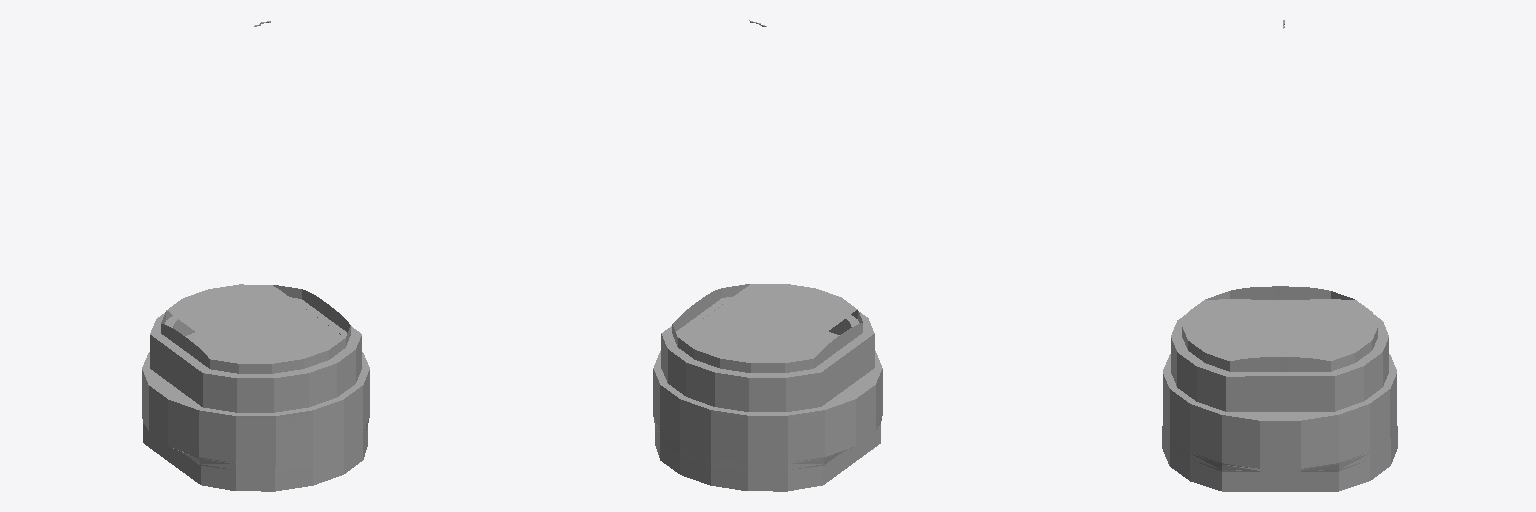
URDF robot description (spot_arm):
<?xml version="1.0" ?>
<robot name="spot_arm" xmlns:xacro="http://www.ros.org/wiki/xacro">

<material name="silver">
  <color rgba="0.700 0.700 0.700 1.000"/>
</material>
<link name="body">
    <visual>
        <origin xyz="0 0 0" rpy="0 0 0" />
        <geometry>
            <mesh filename="package://spot_arm/meshes/body.dae" />
        </geometry>
    </visual>
    <collision>
        <geometry>
            <mesh filename="package://spot_arm/meshes/body_collision.dae" />
        </geometry>
    </collision>
</link>

<joint name="base_arm_joint" type="fixed">
  <origin xyz="0.29 0 0.08" rpy="0 0 0" />
  <parent link="body" />
  <child link="base_arm_link" />
</joint>

<link name="base_arm_link">
  <inertial>
    <origin rpy="0 0 0" xyz="1.2371844231029972e-17 0.0 0.0325"/>
    <mass value="5.770791545379091"/>
    <inertia ixx="0.007226" ixy="-0.0" ixz="0.0" iyy="0.007226" iyz="0.0" izz="0.010387"/>
  </inertial>
  <visual>
    <origin rpy="0 0 0" xyz="0 0 0"/>
    <geometry>
      <mesh filename="package://spot_arm/meshes/arm/base_link.dae" scale="0.001 0.001 0.001"/>
    </geometry>
    <material name="silver"/>
  </visual>
  <collision>
    <origin rpy="0 0 0" xyz="0 0 0"/>
    <geometry>
      <mesh filename="package://spot_arm/meshes/arm/base_link.dae" scale="0.001 0.001 0.001"/>
    </geometry>
  </collision>
</link>

<joint name="arm_joint1" type="revolute">
  <origin rpy="0 0 1.5707963267948966" xyz="0.0 0.0 0.065"/>
  <parent link="base_arm_link"/>
  <child link="link1"/>
  <axis xyz="0.0 0.0 1.0"/>
  <limit effort="100" lower="-3.141593" upper="2.617994" velocity="100"/>
</joint>

<link name="link1">
  <inertial>
    <origin rpy="0 0 0" xyz="0.05071972800114364 -1.0308563411658574e-17 0.04676911608650795"/>
    <mass value="6.925827706354272"/>
    <inertia ixx="0.01241" ixy="-0.0" ixz="-0.001047" iyy="0.010387" iyz="0.0" izz="0.012306"/>
  </inertial>
  <visual>
    <origin rpy="0 0 0" xyz="-0.0 -0.0 -0.065"/>
    <geometry>
      <mesh filename="package://spot_arm/meshes/arm/link1.dae" scale="0.001 0.001 0.001"/>
    </geometry>
    <material name="silver"/>
  </visual>
  <collision>
    <origin rpy="0 0 0" xyz="-0.0 -0.0 -0.065"/>
    <geometry>
      <mesh filename="package://spot_arm/meshes/arm/link1.dae" scale="0.001 0.001 0.001"/>
    </geometry>
  </collision>
</link>


<joint name="arm_joint2" type="revolute">
  <origin rpy="-3.141592653589793 0 0" xyz="0.015 0.0 0.05"/>
  <parent link="link1"/>
  <child link="link2"/>
  <axis xyz="1.0 0.0 0.0"/>
  <limit effort="100" lower="-3.665191" upper="0.0" velocity="100"/>
</joint>


<link name="link2">
  <inertial>
    <origin rpy="0 0 0" xyz="-0.0163095589512068 0.17540914221218962 0.0"/>
    <mass value="12.658281999999998"/>
    <inertia ixx="0.12979" ixy="0.002625" ixz="0.0" iyy="0.01004" iyz="0.0" izz="0.129493"/>
  </inertial>
  <visual>
    <origin rpy="0 0 0" xyz="-0.015 -0.0 -0.115"/>
    <geometry>
      <mesh filename="package://spot_arm/meshes/arm/link2.dae" scale="0.001 0.001 0.001"/>
    </geometry>
    <material name="silver"/>
  </visual>
  <collision>
    <origin rpy="0 0 0" xyz="-0.015 -0.0 -0.115"/>
    <geometry>
      <mesh filename="package://spot_arm/meshes/arm/link2.dae" scale="0.001 0.001 0.001"/>
    </geometry>
  </collision>
</link>



<joint name="arm_joint3" type="revolute">
  <origin rpy="0 0 0" xyz="0.002 0.3125 0.0"/>
  <parent link="link2"/>
  <child link="link3"/>
  <axis xyz="1.0 0.0 0.0"/>
  <limit effort="100" lower="0.0" upper="2.96706" velocity="100"/>
</joint>


<link name="link3">
  <inertial>
    <origin rpy="0 0 0" xyz="-0.015621881612358529 0.06665620790957599 -0.058074231003688394"/>
    <mass value="7.368455487741179"/>
    <inertia ixx="0.018073" ixy="0.000915" ixz="-0.00101" iyy="0.011789" iyz="0.003728" izz="0.01667"/>
  </inertial>
  <visual>
    <origin rpy="0 0 0" xyz="-0.017 -0.3125 -0.115"/>
    <geometry>
      <mesh filename="package://spot_arm/meshes/arm/link3.dae" scale="0.001 0.001 0.001"/>
    </geometry>
    <material name="silver"/>
  </visual>
  <collision>
    <origin rpy="0 0 0" xyz="-0.017 -0.3125 -0.115"/>
    <geometry>
      <mesh filename="package://spot_arm/meshes/arm/link3.dae" scale="0.001 0.001 0.001"/>
    </geometry>
  </collision>
</link>


<joint name="arm_joint4" type="revolute">
  <origin rpy="0 0 0" xyz="-0.018 0.138 -0.0675"/>
  <parent link="link3"/>
  <child link="link4"/>
  <axis xyz="0.0 1.0 0.0"/>
  <limit effort="100" lower="-2.879793" upper="2.879793" velocity="100"/>
</joint>


<link name="link4">
  <inertial>
    <origin rpy="0 0 0" xyz="-0.00911464892336129 0.12606054498393937 5.551115123125783e-17"/>
    <mass value="10.95245995004642"/>
    <inertia ixx="0.066789" ixy="0.011971" ixz="-0.0" iyy="0.014993" iyz="0.0" izz="0.071949"/>
  </inertial>
  <visual>
    <origin rpy="0 0 0" xyz="0.001 -0.4505 -0.0475"/>
    <geometry>
      <mesh filename="package://spot_arm/meshes/arm/link4.dae" scale="0.001 0.001 0.001"/>
    </geometry>
    <material name="silver"/>
  </visual>
  <collision>
    <origin rpy="0 0 0" xyz="0.001 -0.4505 -0.0475"/>
    <geometry>
      <mesh filename="package://spot_arm/meshes/arm/link4.dae" scale="0.001 0.001 0.001"/>
    </geometry>
  </collision>
</link>


<joint name="arm_joint5" type="revolute">
  <origin rpy="0 0 0" xyz="-0.0475 0.24809 0.0"/>
  <parent link="link4"/>
  <child link="wrist"/>
  <axis xyz="1.0 0.0 0.0"/>
  <limit effort="100" lower="-1.570796" upper="1.570796" velocity="100"/>
</joint>



<link name="wrist">
  <inertial>
    <origin rpy="0 0 0" xyz="0.03954999709763633 0.03472006124891969 4.209155544249166e-08"/>
    <mass value="3.2278801394086396"/>
    <inertia ixx="0.00339" ixy="-2.1e-05" ixz="0.0" iyy="0.002242" iyz="-0.0" izz="0.003439"/>
  </inertial>
  <visual>
    <origin rpy="0 0 0" xyz="0.0485 -0.69859 -0.0475"/>
    <geometry>
      <mesh filename="package://spot_arm/meshes/arm/wrist.dae" scale="0.001 0.001 0.001"/>
    </geometry>
    <material name="silver"/>
  </visual>
  <collision>
    <origin rpy="0 0 0" xyz="0.0485 -0.69859 -0.0475"/>
    <geometry>
      <mesh filename="package://spot_arm/meshes/arm/wrist.dae" scale="0.001 0.001 0.001"/>
    </geometry>
  </collision>
</link>

<joint name="arm_joint6" type="revolute">
  <origin rpy="0 0 0" xyz="0.04 0.081 0.0"/>
  <parent link="wrist"/>
  <child link="gripper"/>
  <axis xyz="-0.0 1.0 0.0"/>
  <limit effort="100" lower="-2.96706" upper="2.96706" velocity="100"/>
</joint>


<link name="gripper">
  <inertial>
    <origin rpy="0 0 0" xyz="-8.366123908053191e-08 0.07051371901138614 0.017123167388316526"/>
    <mass value="5.9780007036604434"/>
    <inertia ixx="0.01723" ixy="0.0" ixz="0.0" iyy="0.00734" iyz="-0.003871" izz="0.0153"/>
  </inertial>
  <visual>
    <origin rpy="0 0 0" xyz="0.0085 -0.77959 -0.0475"/>
    <geometry>
      <mesh filename="package://spot_arm/meshes/arm/gripper.dae" scale="0.001 0.001 0.001"/>
    </geometry>
    <material name="silver"/>
  </visual>
  <collision>
    <origin rpy="0 0 0" xyz="0.0085 -0.77959 -0.0475"/>
    <geometry>
      <mesh filename="package://spot_arm/meshes/arm/gripper.dae" scale="0.001 0.001 0.001"/>
    </geometry>
  </collision>
</link>

<joint name="arm_gripper" type="revolute">
  <origin rpy="0 0 0" xyz="-0.86859 0.043915 -0.029"/>
  <parent link="gripper"/>
  <child link="finger"/>
  <axis xyz="1.0 -0.0 0.0"/>
  <limit effort="100" lower="-1.396263" upper="0.349066" velocity="100"/>
</joint>

<link name="finger">
  <inertial>
    <origin rpy="0 0 0" xyz="0.8635899028063472 0.09862056591557622 0.00850232975194119"/>
    <mass value="1.71236178687828"/>
    <inertia ixx="0.002129" ixy="0.0" ixz="-0.0" iyy="0.001681" iyz="0.000162" izz="0.003403"/>
  </inertial>
  <visual>
    <origin rpy="0 0 0" xyz="0.87709 -0.823505 -0.0185"/>
    <geometry>
      <mesh filename="package://spot_arm/meshes/arm/finger.dae" scale="0.001 0.001 0.001"/>
    </geometry>
    <material name="silver"/>
  </visual>
  <collision>
    <origin rpy="0 0 0" xyz="0.87709 -0.823505 -0.0185"/>
    <geometry>
      <mesh filename="package://spot_arm/meshes/arm/finger.dae" scale="0.001 0.001 0.001"/>
    </geometry>
  </collision>
</link>

  <joint name="tool_tip_joint" type="fixed">
    <origin xyz="0.0 0.2 0.0" rpy="-1.570796 0 0" />
    <parent link="gripper" />
    <child link="tool_tip" />
  </joint>

  <link name="tool_tip"/>

   <link name="base_link"/>
    <joint name="base_link_joint" type="fixed">
        <origin xyz="0 0 0" rpy="0 0 0" />
        <parent link="body" />
        <child link="base_link" />
    </joint>

    <link name="front_rail"/>
    <joint name="front_rail_joint" type="fixed">
        <origin xyz="0.223 0 0.0805" rpy="0 0 0" />
        <parent link="body" />
        <child link="front_rail" />
    </joint>

    <link name="real_front_rail"/>
    <joint name="real_front_rail_joint" type="fixed">
        <origin xyz="0.2075 0 0.0805" rpy="0 0 0" />
        <parent link="body" />
        <child link="real_front_rail" />
    </joint>

    <link name="rear_rail"/>
    <joint name="rear_rail_joint" type="fixed">
        <origin xyz="-0.223 0 0.0805" rpy="0 0 0" />
        <parent link="body" />
        <child link="rear_rail" />
    </joint>

    <link name="real_rear_rail"/>
    <joint name="real_rear_rail_joint" type="fixed">
        <origin xyz="-0.415 0 0" rpy="0 0 0" />
        <parent link="real_front_rail" />
        <child link="real_rear_rail" />
    </joint>

    <link name="front_left_hip">
        <visual>
            <geometry>
                <mesh filename="package://spot_arm/meshes/front_left_hip.dae" />
            </geometry>
        </visual>
        <collision>
            <geometry>
                <mesh filename="package://spot_arm/meshes/front_left_hip_collision.dae" />
            </geometry>
        </collision>
    </link>
    <joint name="front_left_hip_x" type="revolute">
        <origin xyz="0.29785 0.05500 0.00000" rpy="0.0 0 0" />
        <axis xyz="1 0 0" />
        <parent link="body" />
        <child link="front_left_hip" />
        <limit effort="1000" velocity="1000.00" lower="-0.78539816339744827899" upper="0.78539816339744827899" />
    </joint>
    <link name="front_left_upper_leg">
        <visual>
            <geometry>
                <mesh filename="package://spot_arm/meshes/front_left_upper_leg.dae" />
            </geometry>
        </visual>
        <collision>
            <geometry>
                <mesh filename="package://spot_arm/meshes/front_left_upper_leg_collision.dae" />
            </geometry>
        </collision>
    </link>
    <joint name="front_left_hip_y" type="revolute">
        <origin xyz="0.0 0.110945 0.0" rpy="0 1.3 0" />
        <axis xyz="0 1 0" />
        <parent link="front_left_hip" />
        <child link="front_left_upper_leg" />
        <limit effort="1000" velocity="1000.00" lower="-0.89884456477707963539" upper="2.2951079663725435509" />
    </joint>
    <link name="front_left_lower_leg">
        <visual>
            <geometry>
                <mesh filename="package://spot_arm/meshes/front_left_lower_leg.dae" />
            </geometry>
        </visual>
        <collision>
            <geometry>
                <mesh filename="package://spot_arm/meshes/front_left_lower_leg_collision.dae" />
            </geometry>
        </collision>
    </link>
    <joint name="front_left_knee" type="revolute">
        <origin xyz="0.025 0.000 -0.3205" rpy="0 -2.6 0" />
        <axis xyz="0 1 0" />
        <parent link="front_left_upper_leg" />
        <child link="front_left_lower_leg" />
        <limit effort="1000" velocity="1000.00" lower="-2.7929" upper="-0.254801" />
    </joint>
    <link name="front_right_hip">
        <visual>
            <geometry>
                <mesh filename="package://spot_arm/meshes/front_right_hip.dae" />
            </geometry>
        </visual>
        <collision>
            <geometry>
                <mesh filename="package://spot_arm/meshes/front_right_hip_collision.dae" />
            </geometry>
        </collision>
    </link>
    <joint name="front_right_hip_x" type="revolute">
        <origin xyz="0.29785 -0.05500 0.00000" rpy="0 0 0" />
        <axis xyz="1 0 0" />
        <parent link="body" />
        <child link="front_right_hip" />
        <limit effort="1000" velocity="1000.00" lower="-0.78539816339744827899" upper="0.78539816339744827899" />
    </joint>
    <link name="front_right_upper_leg">
        <visual>
            <geometry>
                <mesh filename="package://spot_arm/meshes/front_right_upper_leg.dae" />
            </geometry>
        </visual>
        <collision>
            <geometry>
                <mesh filename="package://spot_arm/meshes/front_right_upper_leg_collision.dae" />
            </geometry>
        </collision>
    </link>
    <joint name="front_right_hip_y" type="revolute">
        <origin xyz="0.0 -0.110945 0.0" rpy="0 1.3 0" />
        <axis xyz="0 1 0" />
        <parent link="front_right_hip" />
        <child link="front_right_upper_leg" />
        <limit effort="1000" velocity="1000.00" lower="-0.89884456477707963539" upper="2.2951079663725435509" />
    </joint>
    <link name="front_right_lower_leg">
        <visual>
            <geometry>
                <mesh filename="package://spot_arm/meshes/front_right_lower_leg.dae" />
            </geometry>
        </visual>
        <collision>
            <geometry>
                <mesh filename="package://spot_arm/meshes/front_right_lower_leg_collision.dae" />
            </geometry>
        </collision>
    </link>
    <joint name="front_right_knee" type="revolute">
        <origin xyz="0.025 0.000 -0.3205" rpy="0 -2.6 0" />
        <axis xyz="0 1 0" />
        <parent link="front_right_upper_leg" />
        <child link="front_right_lower_leg" />
        <limit effort="1000" velocity="1000.00" lower="-2.7929" upper="-0.247563" />
    </joint>
    <link name="rear_left_hip">
        <visual>
            <geometry>
                <mesh filename="package://spot_arm/meshes/rear_left_hip.dae" />
            </geometry>
        </visual>
        <collision>
            <geometry>
                <mesh filename="package://spot_arm/meshes/rear_left_hip_collision.dae" />
            </geometry>
        </collision>
    </link>
    <joint name="rear_left_hip_x" type="revolute">
        <origin xyz="-0.29785 0.05500 0.00000" rpy="0 0 0" />
        <axis xyz="1 0 0" />
        <parent link="body" />
        <child link="rear_left_hip" />
        <limit effort="1000" velocity="1000.00" lower="-0.78539816339744827899" upper="0.78539816339744827899" />
    </joint>
    <link name="rear_left_upper_leg">
        <visual>
            <geometry>
                <mesh filename="package://spot_arm/meshes/rear_left_upper_leg.dae" />
            </geometry>
        </visual>
        <collision>
            <geometry>
                <mesh filename="package://spot_arm/meshes/rear_left_upper_leg_collision.dae" />
            </geometry>
        </collision>
    </link>
    <joint name="rear_left_hip_y" type="revolute">
        <origin xyz="0.0 0.110945 0.0" rpy="0 1.3 0" />
        <axis xyz="0 1 0" />
        <parent link="rear_left_hip" />
        <child link="rear_left_upper_leg" />
        <limit effort="1000" velocity="1000.00" lower="-0.89884456477707963539" upper="2.2951079663725435509" />
    </joint>
    <link name="rear_left_lower_leg">
        <visual>
            <geometry>
                <mesh filename="package://spot_arm/meshes/rear_left_lower_leg.dae" />
            </geometry>
        </visual>
        <collision>
            <geometry>
                <mesh filename="package://spot_arm/meshes/rear_left_lower_leg_collision.dae" />
            </geometry>
        </collision>
    </link>
    <joint name="rear_left_knee" type="revolute">
        <origin xyz="0.025 0.000 -0.3205" rpy="0 -2.6 0" />
        <axis xyz="0 1 0" />
        <parent link="rear_left_upper_leg" />
        <child link="rear_left_lower_leg" />
        <limit effort="1000" velocity="1000.00" lower="-2.7929" upper="-0.267153" />
    </joint>
    <link name="rear_right_hip">
        <visual>
            <geometry>
                <mesh filename="package://spot_arm/meshes/rear_right_hip.dae" />
            </geometry>
        </visual>
        <collision>
            <geometry>
                <mesh filename="package://spot_arm/meshes/rear_right_hip_collision.dae" />
            </geometry>
        </collision>
    </link>
    <joint name="rear_right_hip_x" type="revolute">
        <origin xyz="-0.29785 -0.05500 0.00000" rpy="0 0 0" />
        <axis xyz="1 0 0" />
        <parent link="body" />
        <child link="rear_right_hip" />
        <limit effort="1000" velocity="1000.00" lower="-0.78539816339744827899" upper="0.78539816339744827899" />
    </joint>
    <link name="rear_right_upper_leg">
        <visual>
            <geometry>
                <mesh filename="package://spot_arm/meshes/rear_right_upper_leg.dae" />
            </geometry>
        </visual>
        <collision>
            <geometry>
                <mesh filename="package://spot_arm/meshes/rear_right_upper_leg_collision.dae" />
            </geometry>
        </collision>
    </link>
    <joint name="rear_right_hip_y" type="revolute">
        <origin xyz="0.0 -0.110945 0.0" rpy="0 1.3 0" />
        <axis xyz="0 1 0" />
        <parent link="rear_right_hip" />
        <child link="rear_right_upper_leg" />
        <limit effort="1000" velocity="1000.00" lower="-0.89884456477707963539" upper="2.2951079663725435509" />
    </joint>
    <link name="rear_right_lower_leg">
        <visual>
            <geometry>
                <mesh filename="package://spot_arm/meshes/rear_right_lower_leg.dae" />
            </geometry>
        </visual>
        <collision>
            <geometry>
                <mesh filename="package://spot_arm/meshes/rear_right_lower_leg_collision.dae" />
            </geometry>
        </collision>
    </link>
    <joint name="rear_right_knee" type="revolute">
        <origin xyz="0.025 0.000 -0.3205" rpy="0 -2.6 0" />
        <axis xyz="0 1 0" />
        <parent link="rear_right_upper_leg" />
        <child link="rear_right_lower_leg" />
        <limit effort="1000" velocity="1000.00" lower="-2.7929" upper="-0.257725" />
    </joint>
</robot>

--- Facts derived from the render (not from the file) ---
3 views of the same robot in one strip: view 1: azimuth 30°, elevation 25°; view 2: azimuth 150°, elevation 25°; view 3: azimuth 270°, elevation 25° (orthographic).
Model spot_arm with 27 links and 26 joints (19 revolute, 7 fixed), rooted at body, posed all joints at 0 but 4 set to mid-range because 0 is outside their limits (front_left_knee = -1.52, front_right_knee = -1.52, rear_left_knee = -1.53, rear_right_knee = -1.53).
Links seen in each view (by area): view 1: base_arm_link; view 2: base_arm_link; view 3: base_arm_link.
Link boxes in pixels (left/top/right/bottom): base_arm_link: left=142, top=284, right=369, bottom=491; base_arm_link: left=653, top=284, right=882, bottom=491; base_arm_link: left=1162, top=286, right=1397, bottom=491.
Size in the robot's own frame: 0.1124 by 0.1141 by 0.2306 metres.
Meshes: 21 distinct files referenced, 8 mesh visuals loaded (8 Collada DAE); not drawn: 13 (reference not matched to a file when rendering).